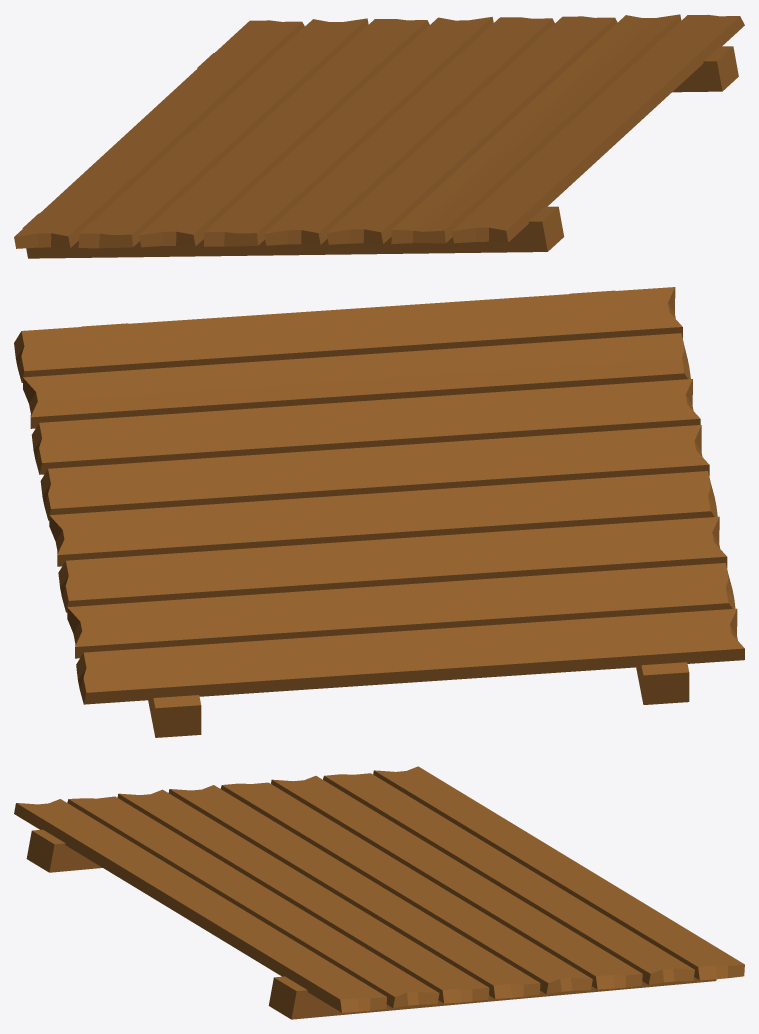
Rendered from palete.fbx.
3 views of the same model, one above another, from view 1: azimuth 30°, elevation 25°; view 2: azimuth 150°, elevation 25°; view 3: azimuth 270°, elevation 25° (orthographic). The views are drawn at different scales.
Visible parts, largest first — view 1: Cube.008; view 2: Cube.008; view 3: Cube.008.
Part boxes in pixels (x1,y1,x2,y2): Cube.008: [14, 14, 744, 258]; Cube.008: [14, 287, 744, 737]; Cube.008: [14, 766, 744, 1019].
Bounding box in the file's own units: 178 × 36.45 × 175.
